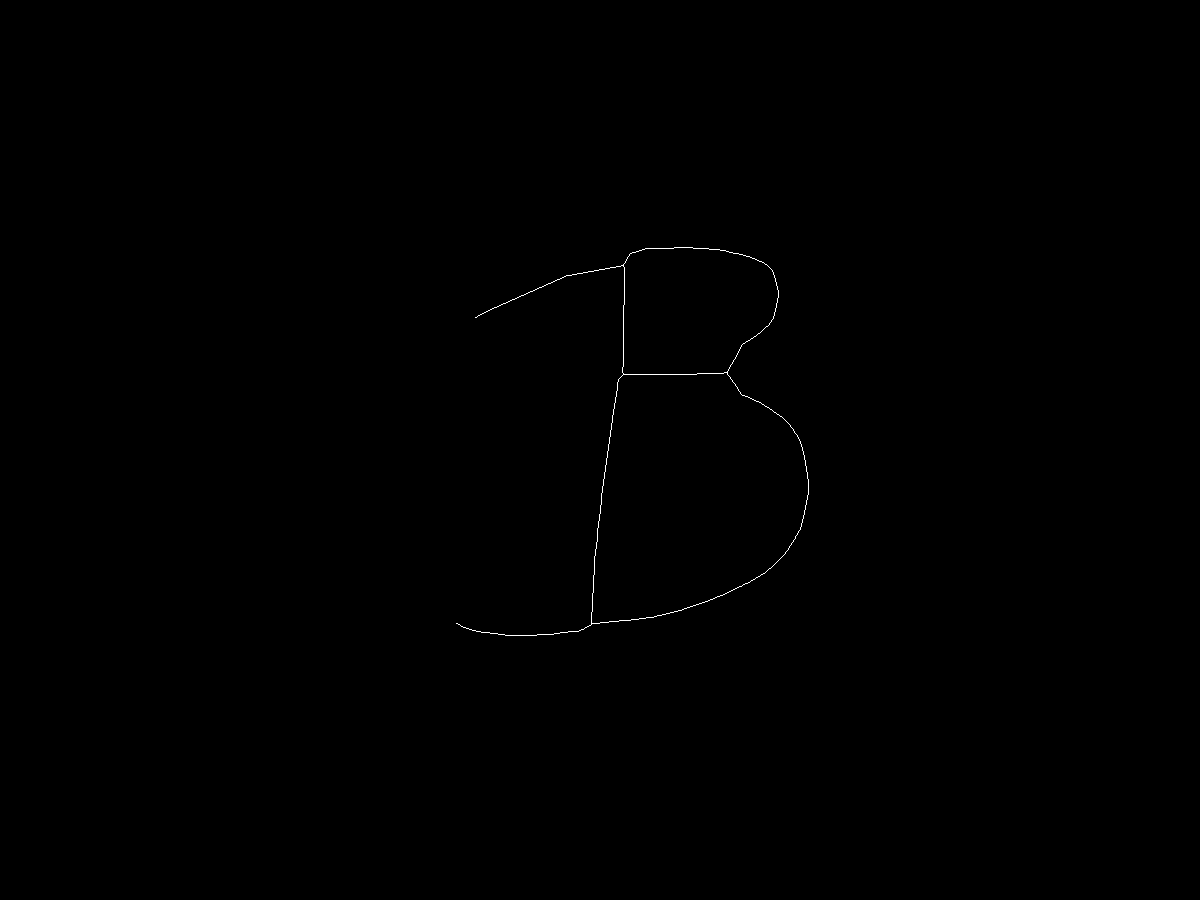dian1: (622, 252, 638, 268)
dian2: (611, 366, 630, 385)
dian3: (587, 619, 599, 631)
dian4: (723, 368, 740, 385)
